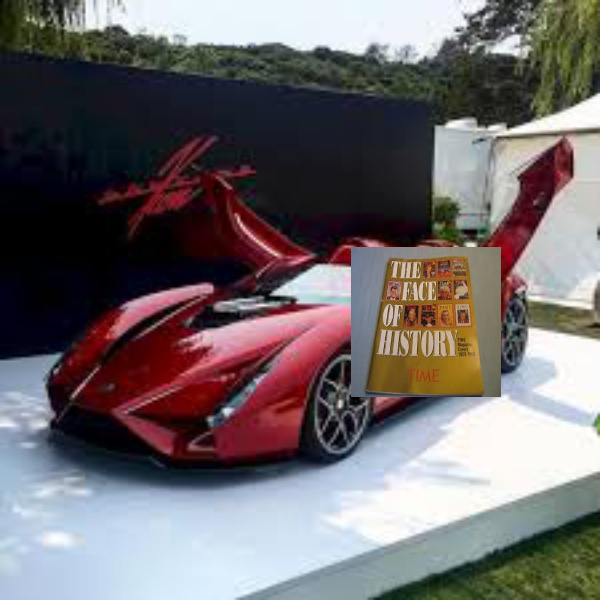time_cover: (374, 246, 489, 388)
